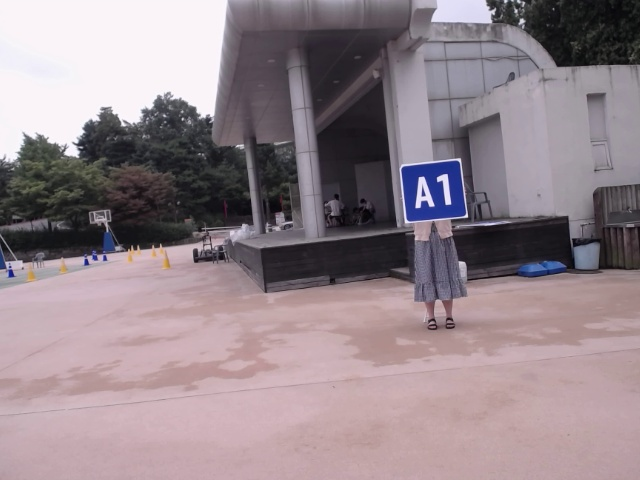delivery_a1: (400, 159, 468, 223)
